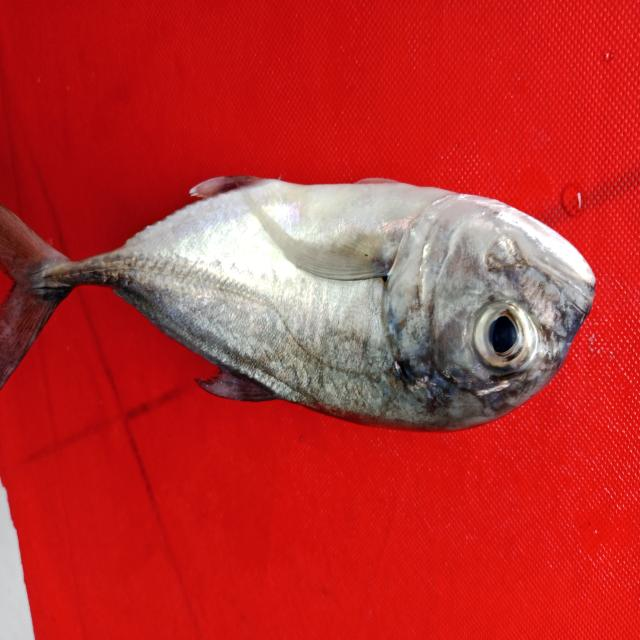ikan: (4, 130, 610, 448)
